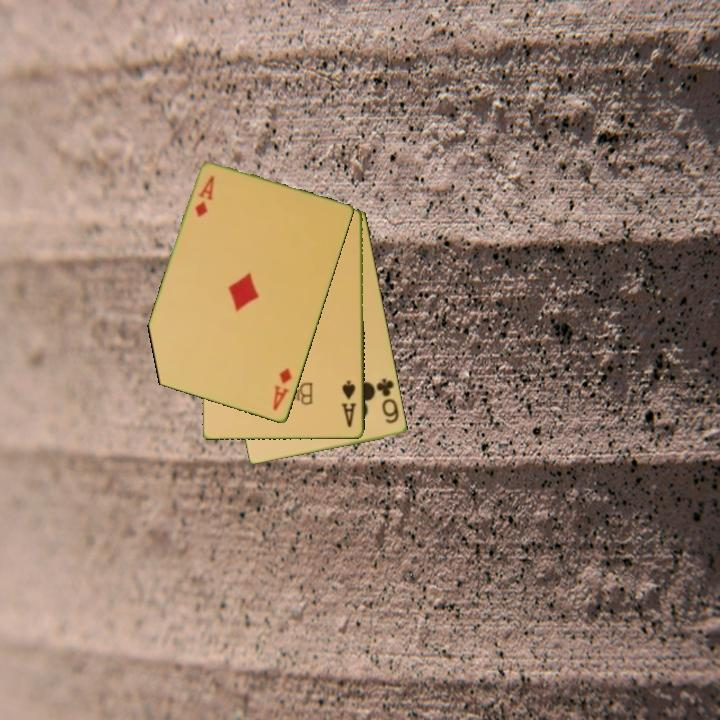6c: (373, 375, 402, 427)
Ad: (192, 172, 218, 221), (270, 365, 295, 414)
As: (338, 377, 359, 431)
